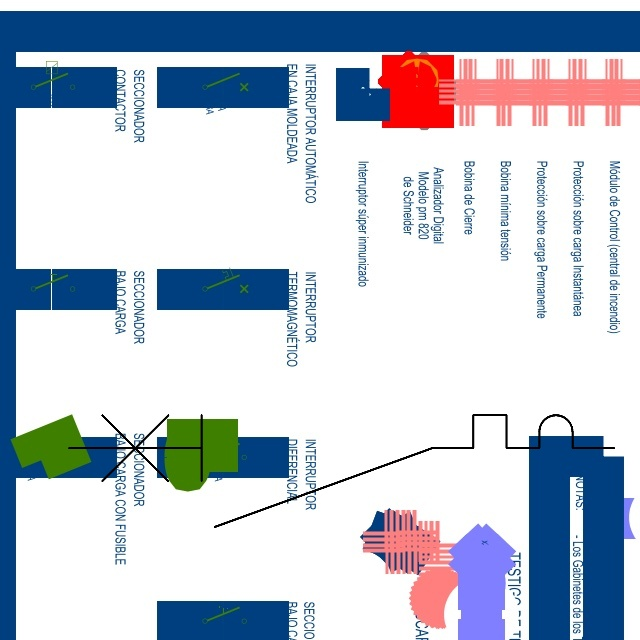interruptor_termomagnetico: (55, 401, 628, 541)
